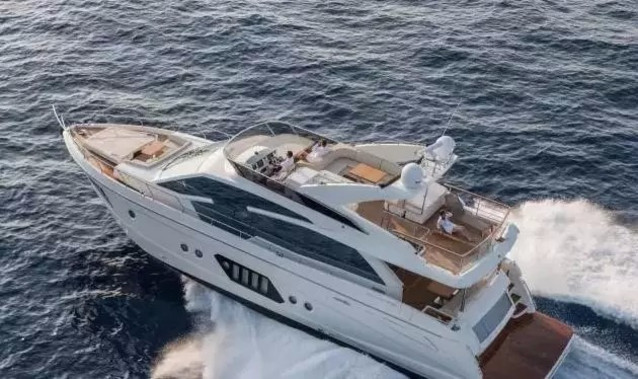yacht: (54, 108, 579, 379)
